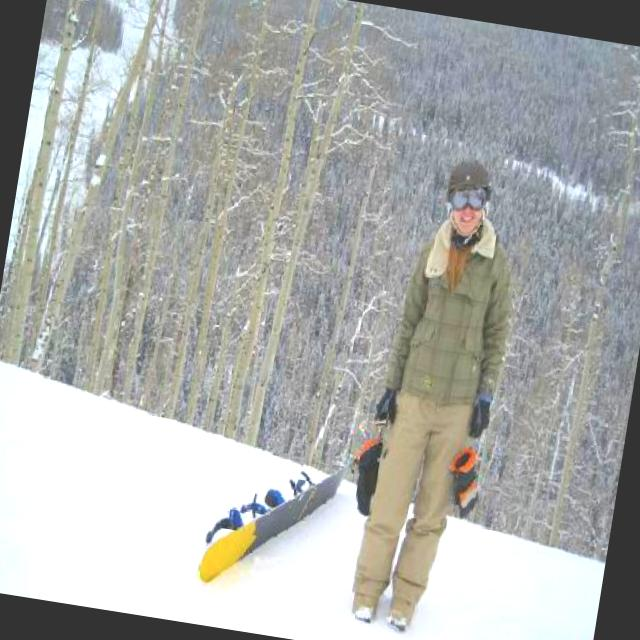Person: (339, 148, 537, 640)
